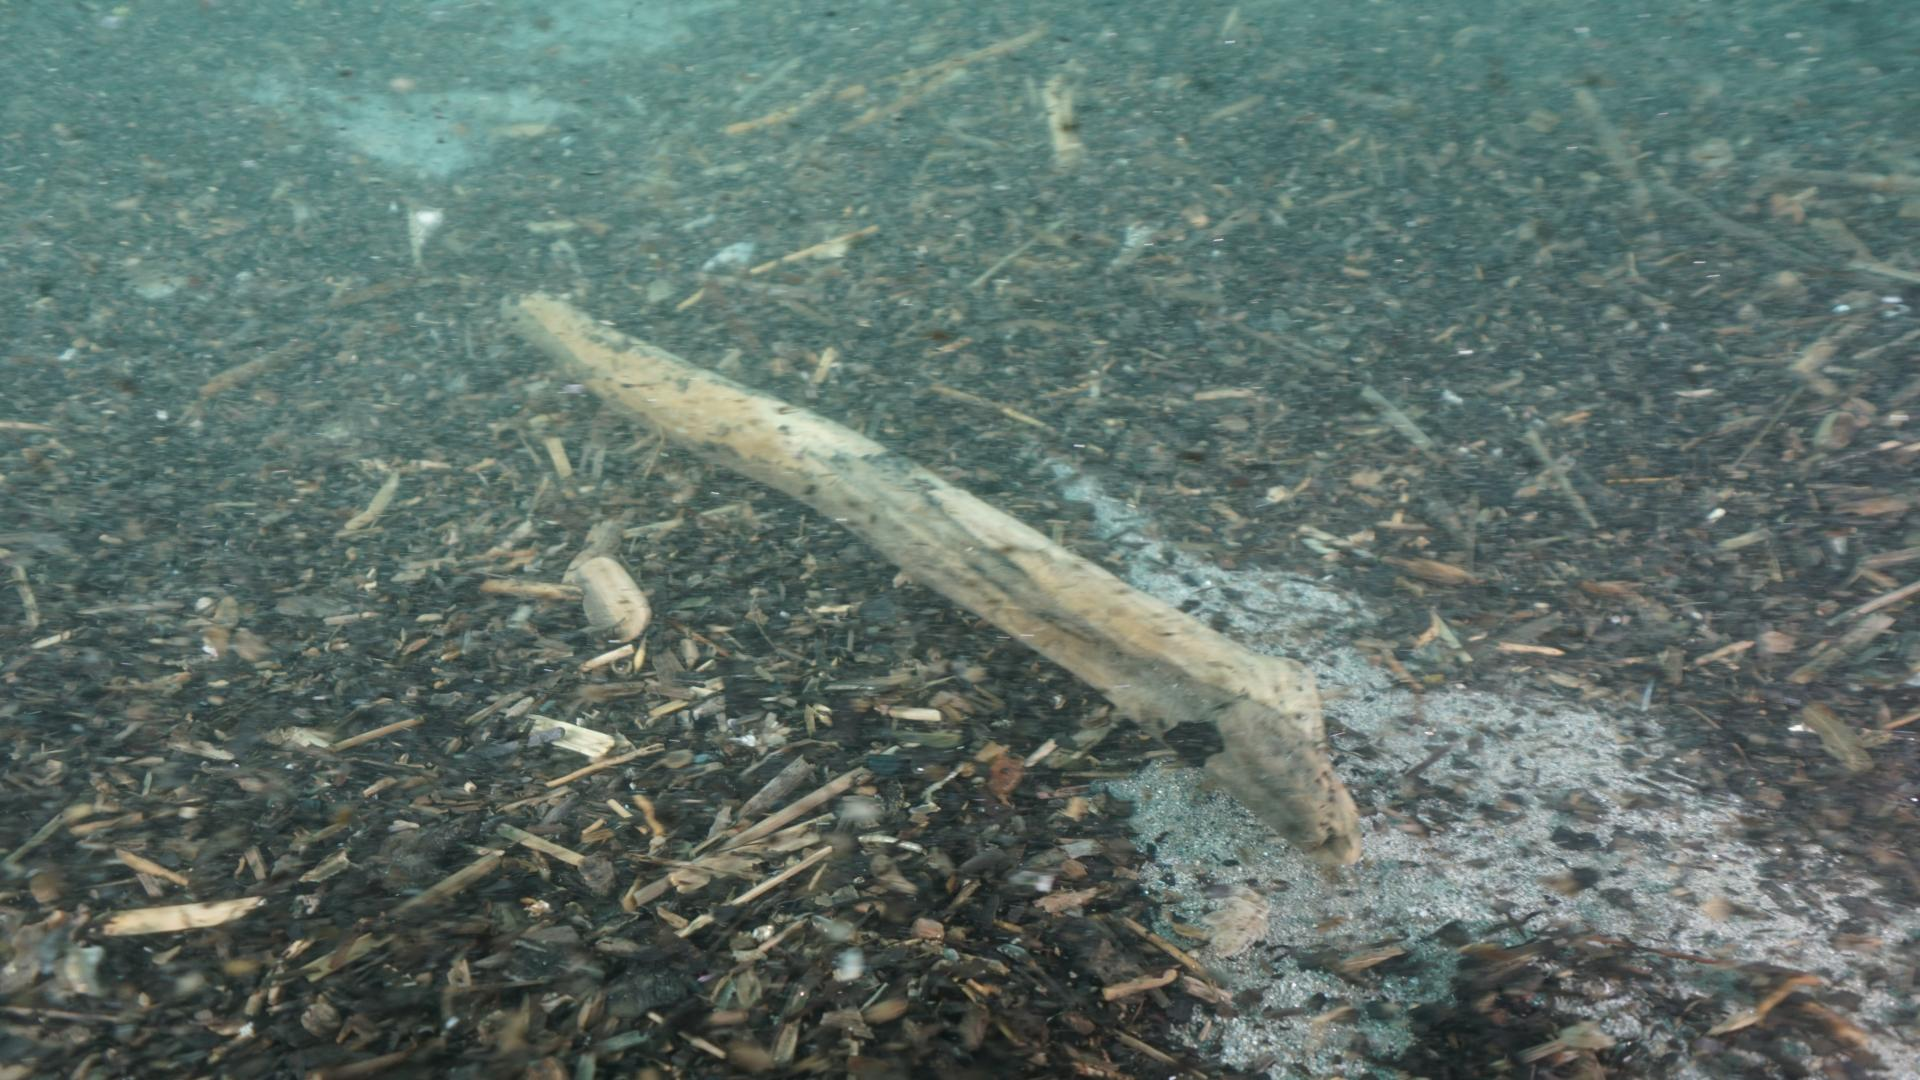wood: (496, 289, 1360, 887)
